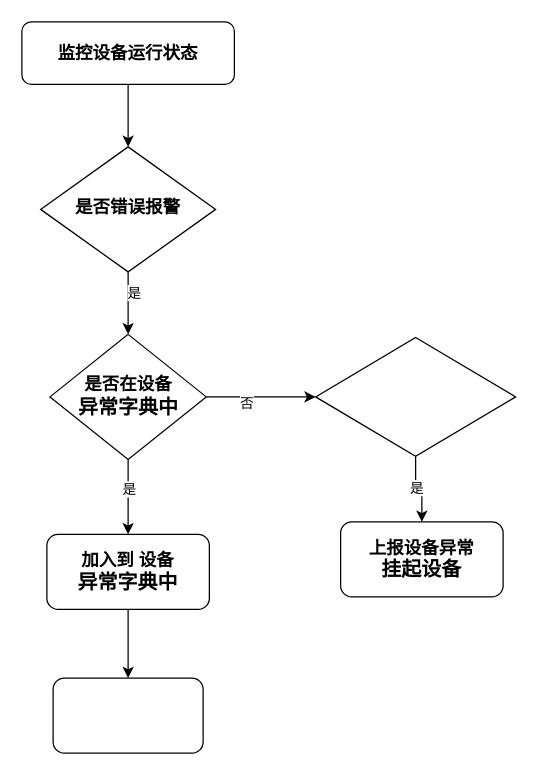
This 538x775 diagram has some shape labels left out. Each missing label, with the box of its shape:
异常超过30分钟: (314, 336, 516, 456)
通知人工处理: (52, 677, 203, 753)
